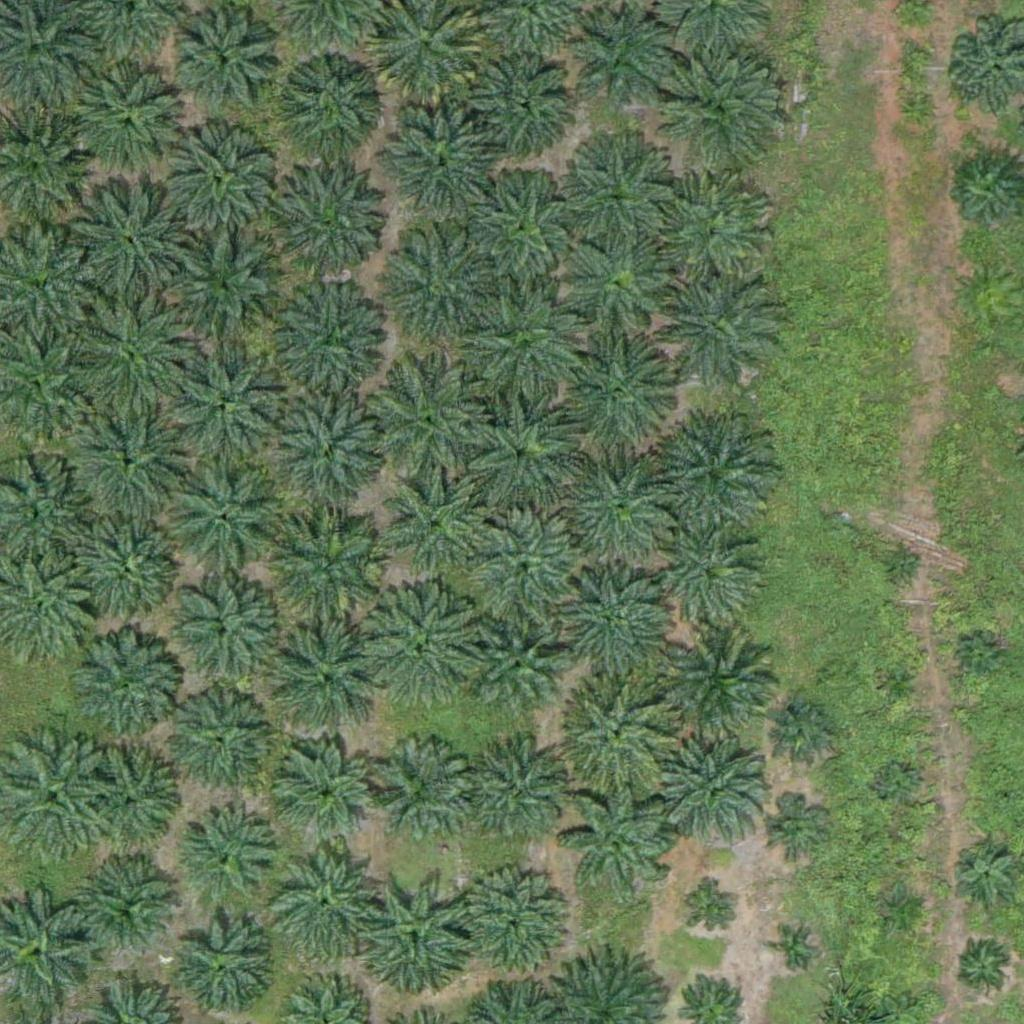Kelapa_Sawit: (655, 39, 780, 165), (556, 131, 681, 257), (463, 167, 588, 293), (650, 169, 775, 295), (65, 291, 190, 417), (67, 395, 192, 521), (63, 502, 188, 628), (59, 623, 184, 749), (161, 573, 286, 699), (161, 456, 286, 582), (268, 159, 393, 285), (271, 277, 396, 403), (267, 503, 392, 629), (266, 619, 391, 745), (364, 359, 489, 485), (371, 227, 496, 353), (376, 99, 501, 225), (460, 290, 585, 416), (454, 393, 579, 519), (462, 515, 587, 641), (549, 566, 674, 692), (557, 452, 682, 578), (552, 331, 677, 457), (654, 269, 779, 395), (650, 414, 775, 540), (661, 634, 786, 760), (355, 873, 480, 999), (263, 839, 388, 965), (66, 177, 191, 302), (167, 339, 292, 464), (167, 227, 292, 352), (267, 390, 392, 515), (362, 586, 487, 711), (563, 9, 676, 122), (563, 781, 676, 894), (452, 867, 565, 980), (76, 66, 188, 179), (660, 741, 772, 854), (564, 676, 676, 789), (470, 50, 570, 151), (280, 50, 380, 151), (175, 10, 275, 111), (170, 133, 270, 234), (387, 477, 487, 578), (661, 529, 761, 630), (468, 743, 568, 844), (367, 742, 467, 843), (277, 745, 377, 846), (165, 692, 265, 793), (177, 808, 277, 909), (79, 741, 179, 842), (568, 239, 668, 339), (169, 917, 269, 1017), (82, 856, 182, 956), (472, 625, 559, 714), (762, 797, 825, 860), (772, 699, 835, 762), (952, 841, 1014, 904), (689, 887, 739, 938), (959, 943, 1009, 993), (877, 763, 915, 801), (881, 665, 919, 703), (882, 546, 920, 584), (884, 889, 922, 927), (963, 639, 1000, 677), (775, 934, 812, 971), (994, 789, 1019, 814)
